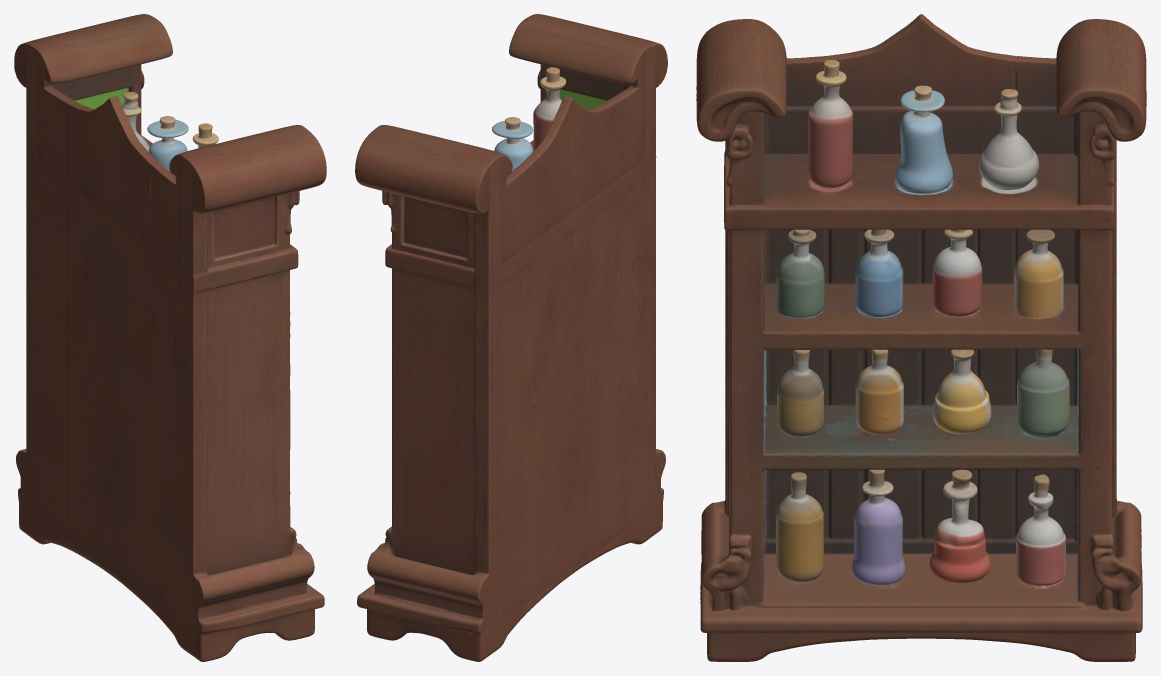
Rendered from detailed_realistic_model_potionshelf_01.glb.
3 views of the same model, side by side, from view 1: azimuth 30°, elevation 25°; view 2: azimuth 150°, elevation 25°; view 3: azimuth 270°, elevation 25° (orthographic). The views are drawn at different scales.
Parts seen in each view (by area): view 1: tripo_node_06ef1678-916a-46bb-b2e7-3d6d482f6f37; view 2: tripo_node_06ef1678-916a-46bb-b2e7-3d6d482f6f37; view 3: tripo_node_06ef1678-916a-46bb-b2e7-3d6d482f6f37.
Part boxes in pixels (bbox=[...]): tripo_node_06ef1678-916a-46bb-b2e7-3d6d482f6f37: bbox=[14, 14, 326, 661]; tripo_node_06ef1678-916a-46bb-b2e7-3d6d482f6f37: bbox=[355, 14, 667, 661]; tripo_node_06ef1678-916a-46bb-b2e7-3d6d482f6f37: bbox=[696, 14, 1146, 661].
Bounding box in the file's own units: 0.2584 × 1 × 0.6976.
Materials: 1 (1 with a texture image).
